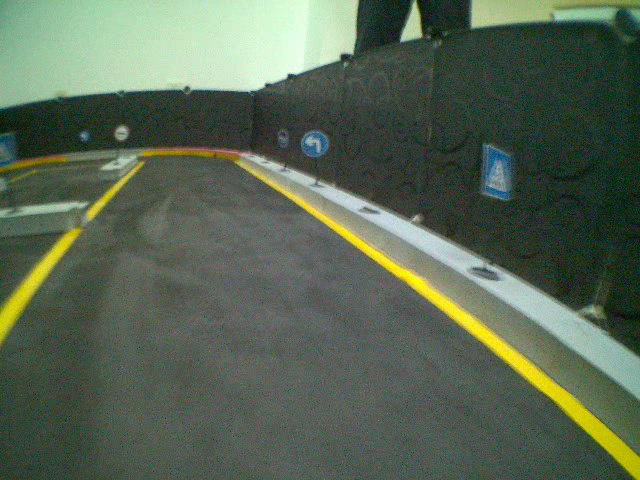Check: (112, 123, 129, 143)
crossing: (476, 138, 516, 207)
turn: (303, 129, 328, 158)
